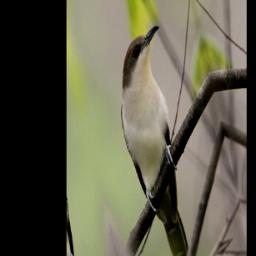Cuckoo: (106, 18, 213, 256)
